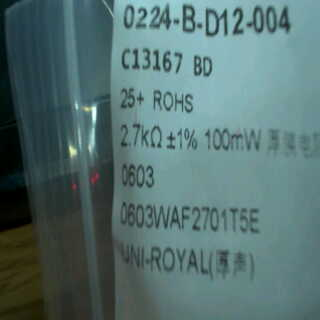2.7kR: (115, 121, 167, 154)
